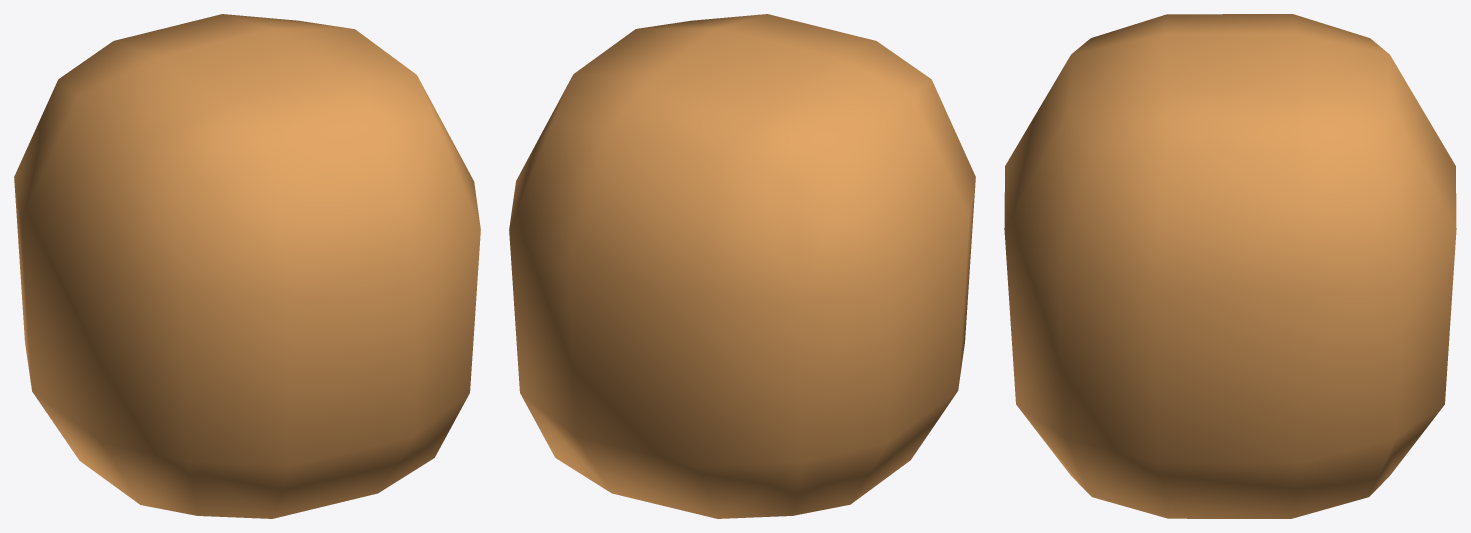
The model's file is Bush_F_02_LOD2.gltf.
3 views of the same model, side by side, from view 1: azimuth 30°, elevation 25°; view 2: azimuth 150°, elevation 25°; view 3: azimuth 270°, elevation 25° (orthographic).
Visible parts, largest first — view 1: Bush_F_02_LOD2_Cube.725; view 2: Bush_F_02_LOD2_Cube.725; view 3: Bush_F_02_LOD2_Cube.725.
Part boxes in pixels (x1,y1,x2,y2): Bush_F_02_LOD2_Cube.725: (14,14,480,518); Bush_F_02_LOD2_Cube.725: (509,14,975,518); Bush_F_02_LOD2_Cube.725: (1004,14,1456,518).
Size of the model in its own units: 4.18 by 4.26 by 4.25.
Materials: 1 (1 with a texture image).
